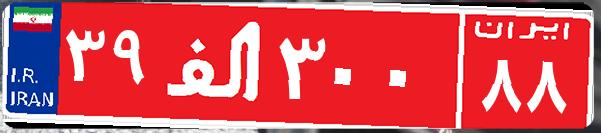0: (385, 28, 445, 110), (330, 28, 385, 110)
3: (273, 28, 330, 110), (57, 26, 110, 107)
8: (475, 38, 525, 113), (525, 38, 570, 115)
9: (110, 28, 158, 105)
الف: (158, 15, 273, 115)
